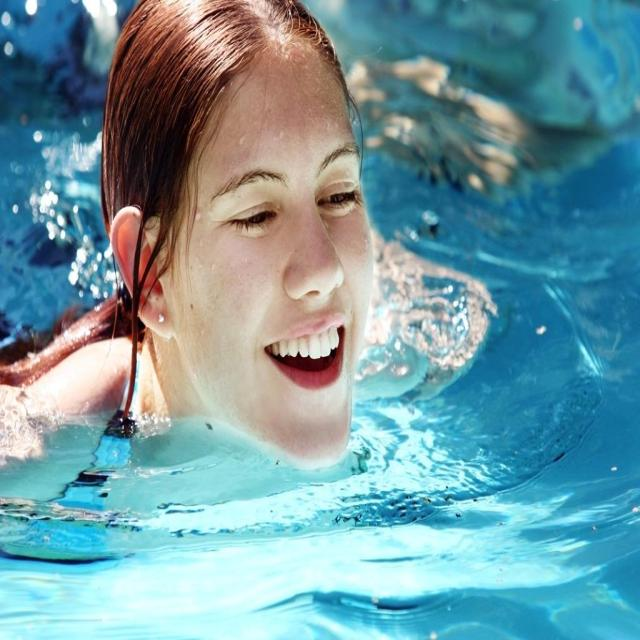Face: (180, 52, 382, 487)
